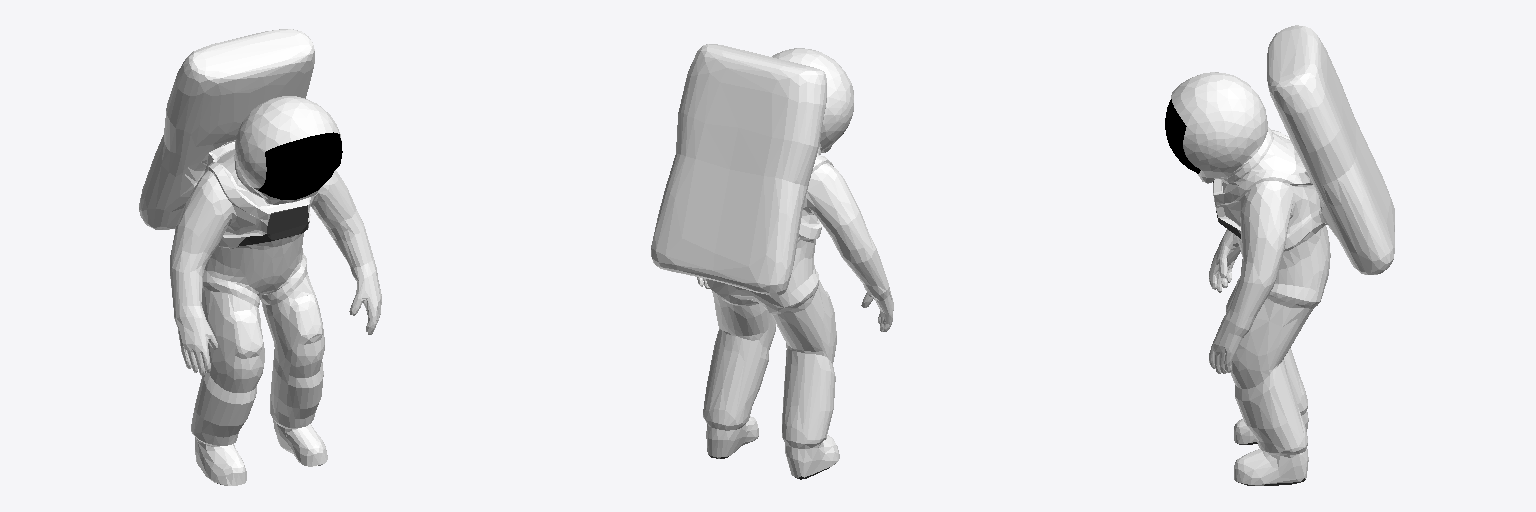
3 renders of one model, left to right at view 1: azimuth 30°, elevation 25°; view 2: azimuth 150°, elevation 25°; view 3: azimuth 270°, elevation 25°, orthographic.
Visible parts, largest first — view 1: 11070_astronaut_v4; view 2: 11070_astronaut_v4; view 3: 11070_astronaut_v4.
Boxes of the visible parts, x1=… form: 11070_astronaut_v4: x1=139, y1=29, x2=381, y2=485; 11070_astronaut_v4: x1=651, y1=44, x2=893, y2=479; 11070_astronaut_v4: x1=1165, y1=25, x2=1394, y2=485.
Size of the model in its own units: 0.9143 by 1.8 by 0.9119.
2 materials, 2 textured.